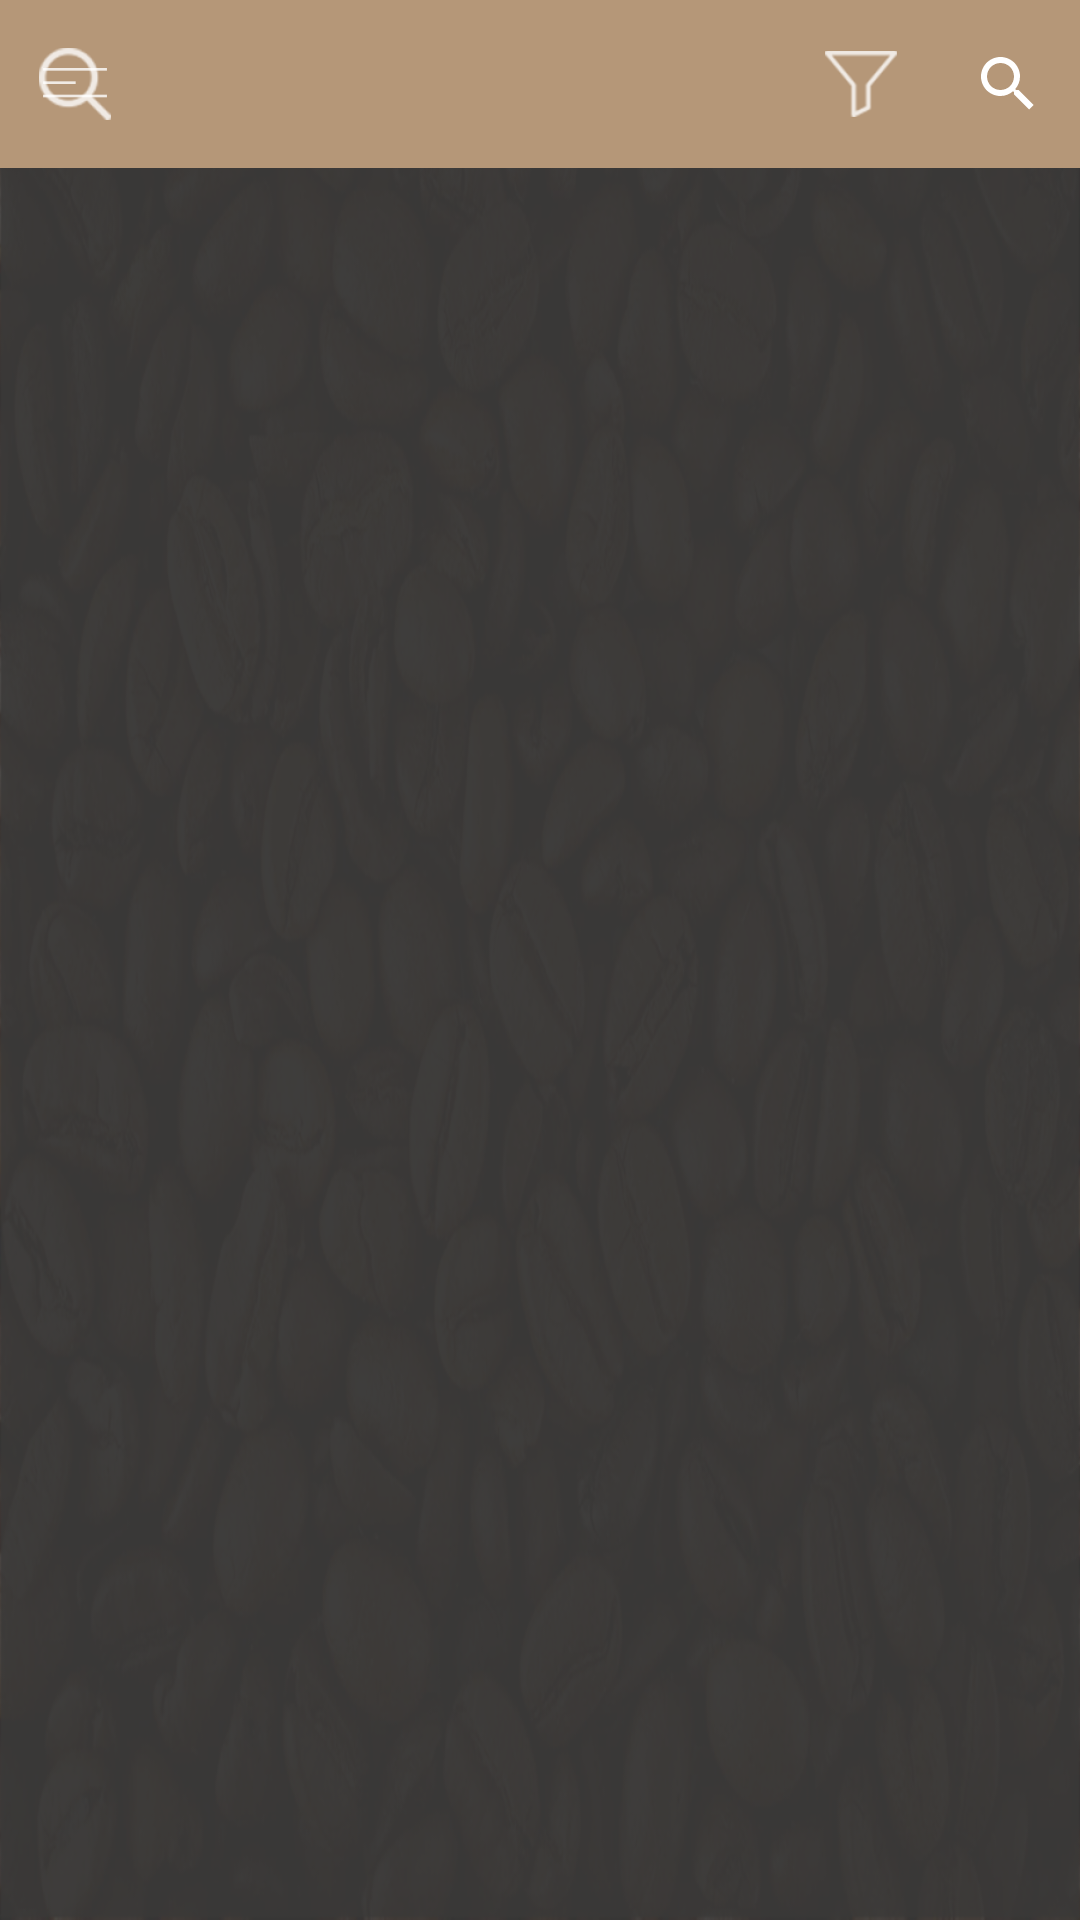

Where to tap for icons on this 1080*1920 app screen, as [x,y]:
filter: [861,84]
